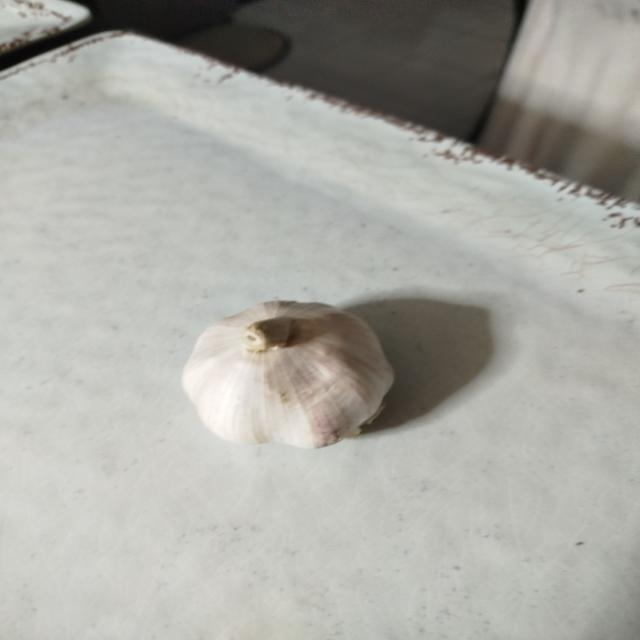garlic: (181, 299, 395, 450)
